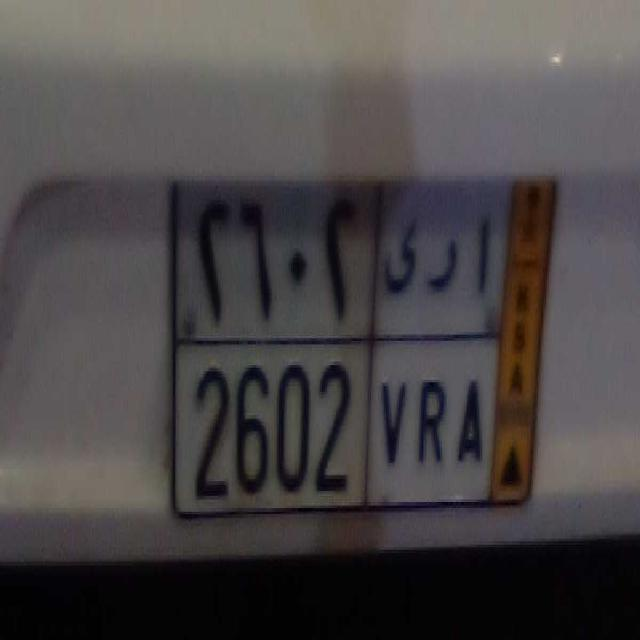license_plate: (173, 338, 495, 509)
